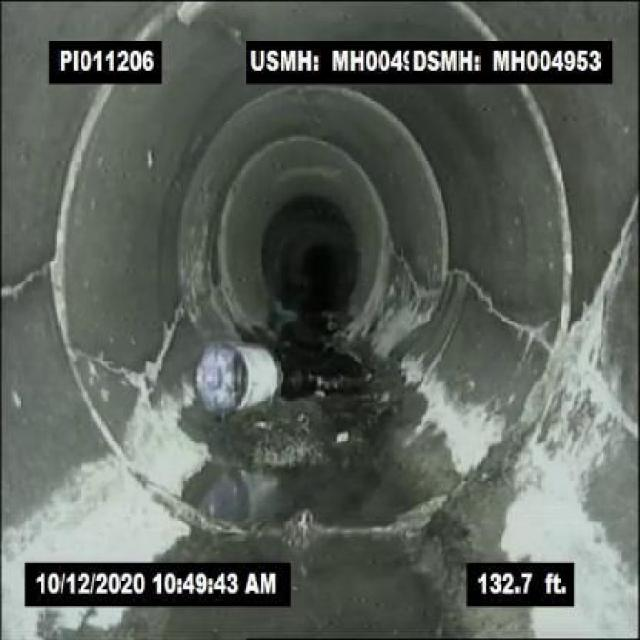Crack: (569, 166, 634, 340), (452, 269, 551, 348), (568, 354, 632, 469), (134, 308, 183, 402), (76, 339, 132, 386), (3, 260, 54, 298), (216, 8, 247, 42)
